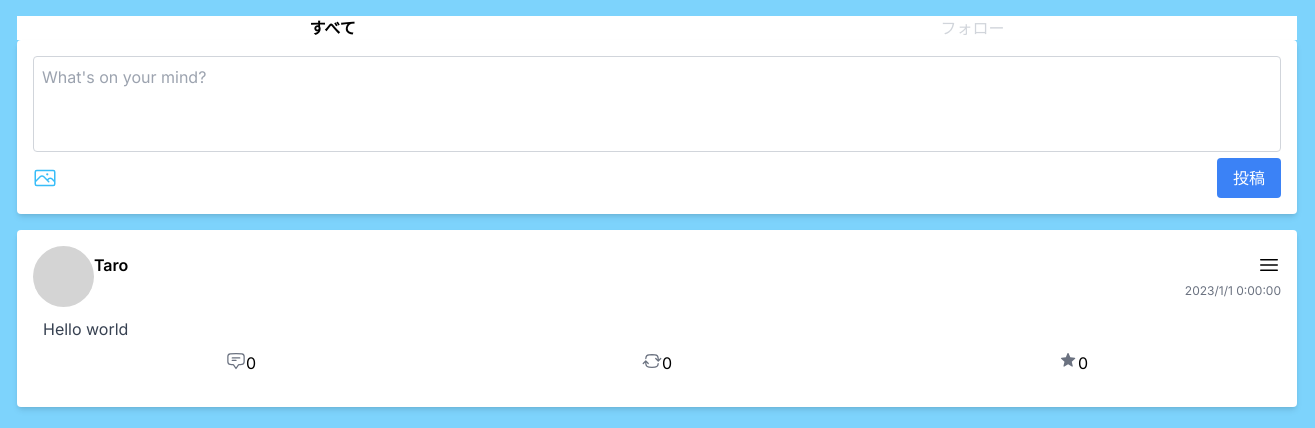
Test: タイムライン表示 › フォロー中のポストが表示されるか
The width and height of the screenshot is (1315, 428).
Click the button with aria-label "following-only" at [972, 28], box [940,16,1004,40]
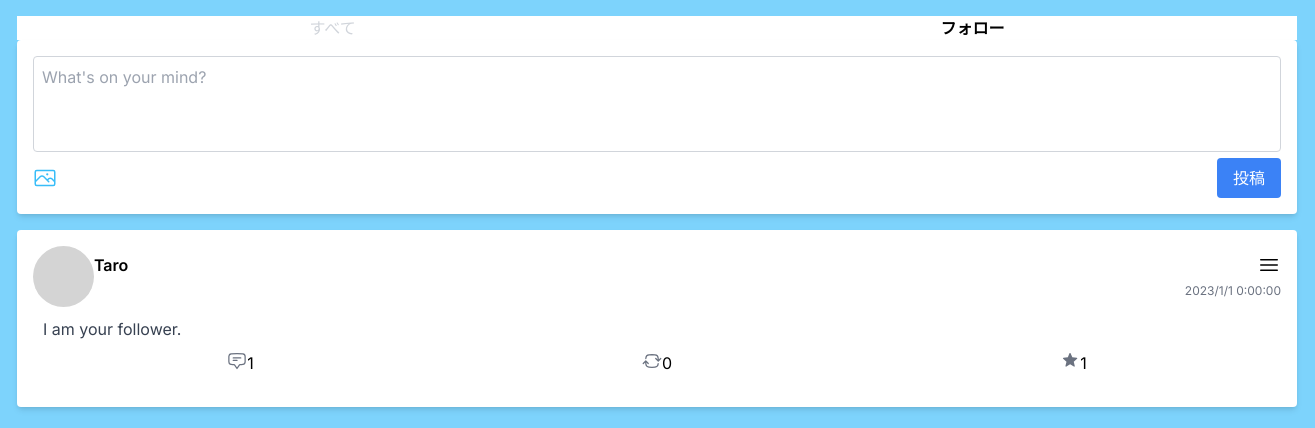
Now the text "I am your follower." is shown, box [43,319,181,339]
